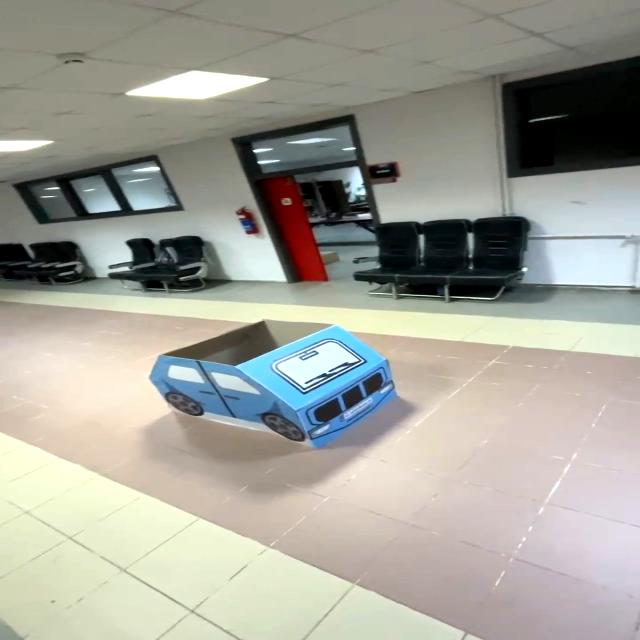blue_car: (124, 309, 414, 468)
